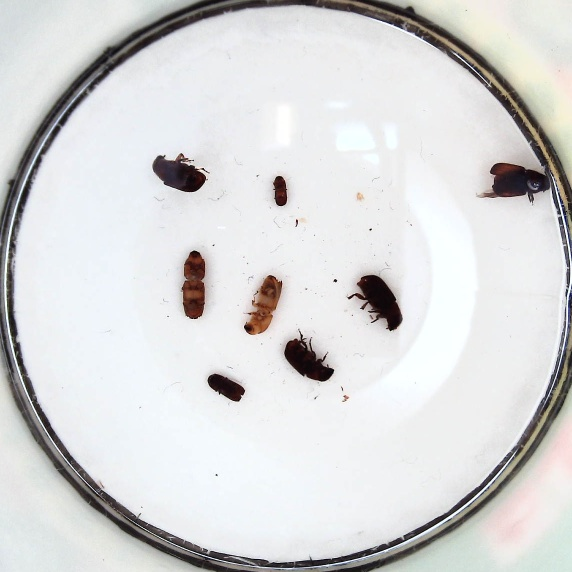acuminatus: (272, 174, 289, 208)
boerner: (242, 272, 284, 334), (180, 248, 208, 322)
leconte: (349, 274, 403, 331), (150, 151, 208, 193), (284, 335, 335, 382), (489, 161, 551, 199)
linnaeus: (206, 372, 246, 402)
